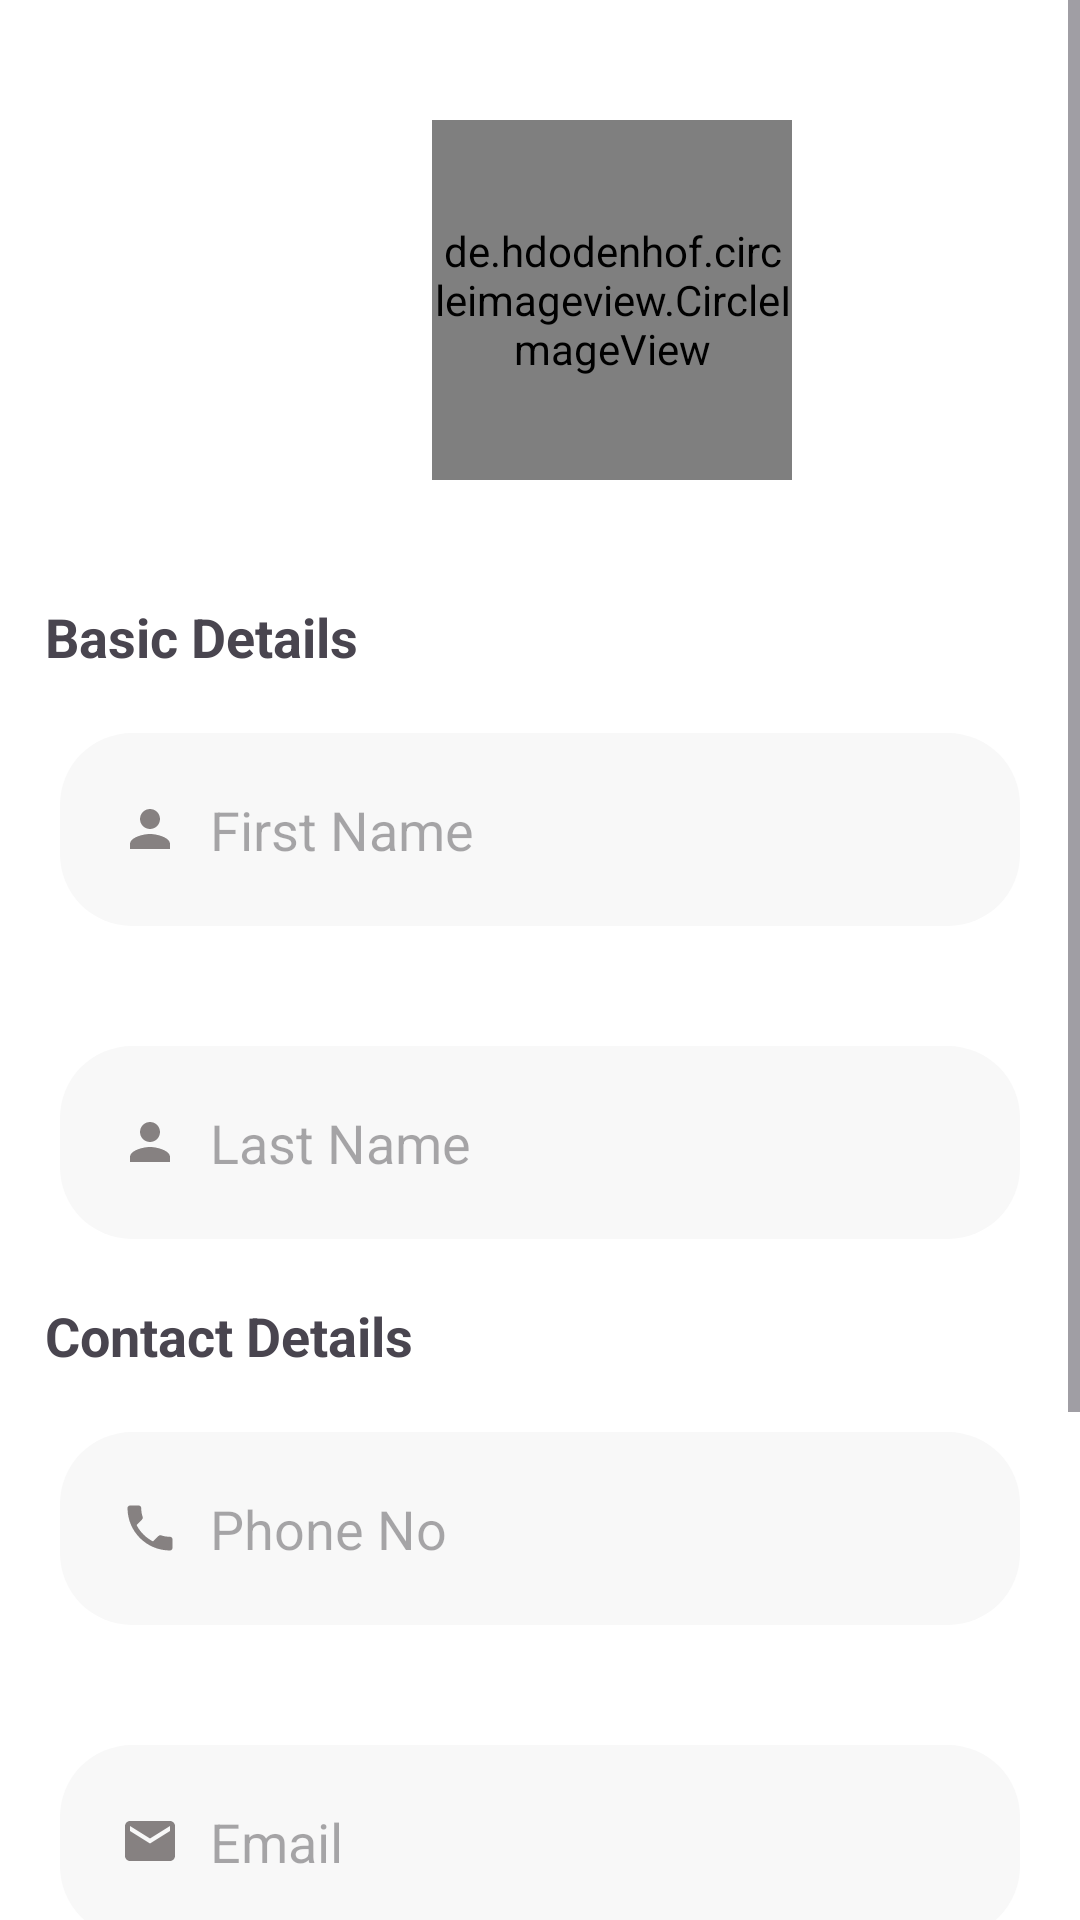

Icons on this 1080×1920 Android screen, each with its box as (x1, y1, x2, y2):
person: (130, 809, 170, 849), (130, 1122, 170, 1162)
